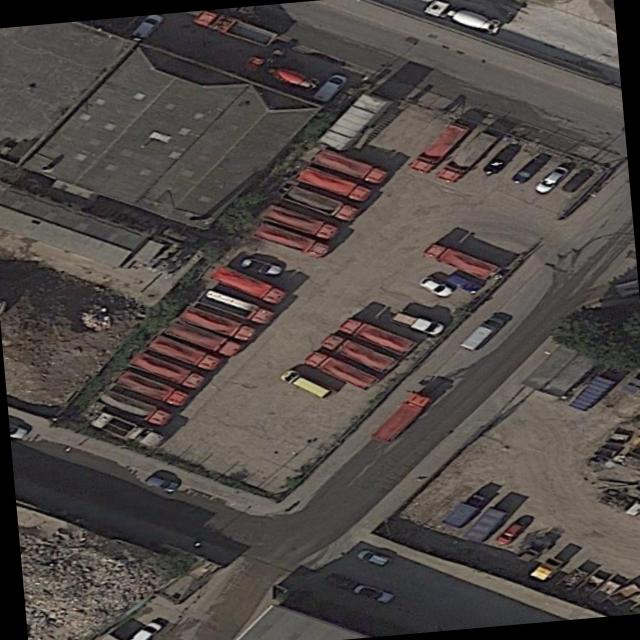large-vehicle: (312, 330, 402, 375), (202, 262, 290, 307), (431, 128, 500, 185), (366, 388, 435, 445), (403, 119, 473, 175), (416, 238, 505, 282), (333, 313, 421, 357), (252, 200, 342, 243), (297, 348, 381, 393), (89, 385, 176, 428), (108, 366, 193, 409), (122, 348, 207, 391), (171, 301, 258, 343), (191, 285, 280, 326), (247, 219, 336, 260), (276, 182, 365, 223), (158, 318, 246, 359), (289, 163, 377, 204), (306, 145, 393, 186), (82, 408, 168, 449), (140, 332, 226, 373), (189, 10, 280, 48), (235, 54, 323, 93), (418, 0, 508, 34), (455, 313, 509, 353), (384, 308, 447, 336)
small-vehicle: (274, 366, 334, 400), (307, 70, 350, 104), (528, 163, 571, 196), (506, 153, 549, 186), (478, 143, 520, 176), (125, 13, 168, 41), (489, 518, 529, 547), (441, 269, 485, 295), (413, 272, 455, 299), (236, 255, 285, 278), (349, 581, 396, 604), (557, 167, 593, 195), (352, 546, 393, 568), (141, 472, 181, 493), (126, 618, 164, 640), (323, 570, 357, 590)
